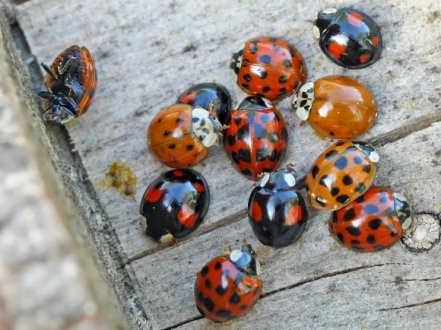red: (222, 93, 289, 182), (329, 186, 415, 255), (193, 241, 264, 324), (227, 34, 309, 99), (295, 75, 377, 138), (146, 103, 220, 169), (306, 140, 377, 208)
two_spots: (246, 170, 306, 251)
two_spots_mutant: (136, 168, 210, 244), (317, 5, 384, 69)
